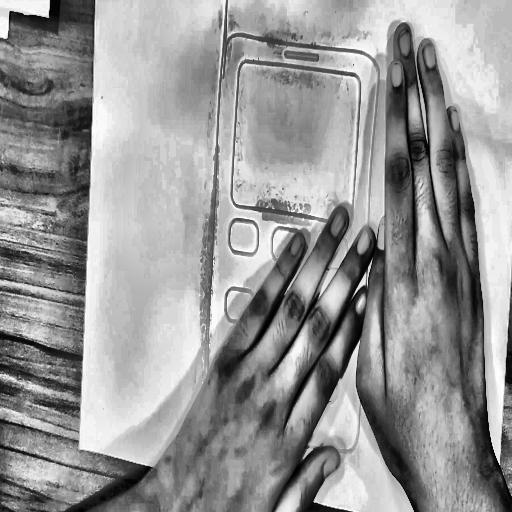bottom_left: (76, 443, 83, 453)
mobile: (198, 0, 394, 471)
